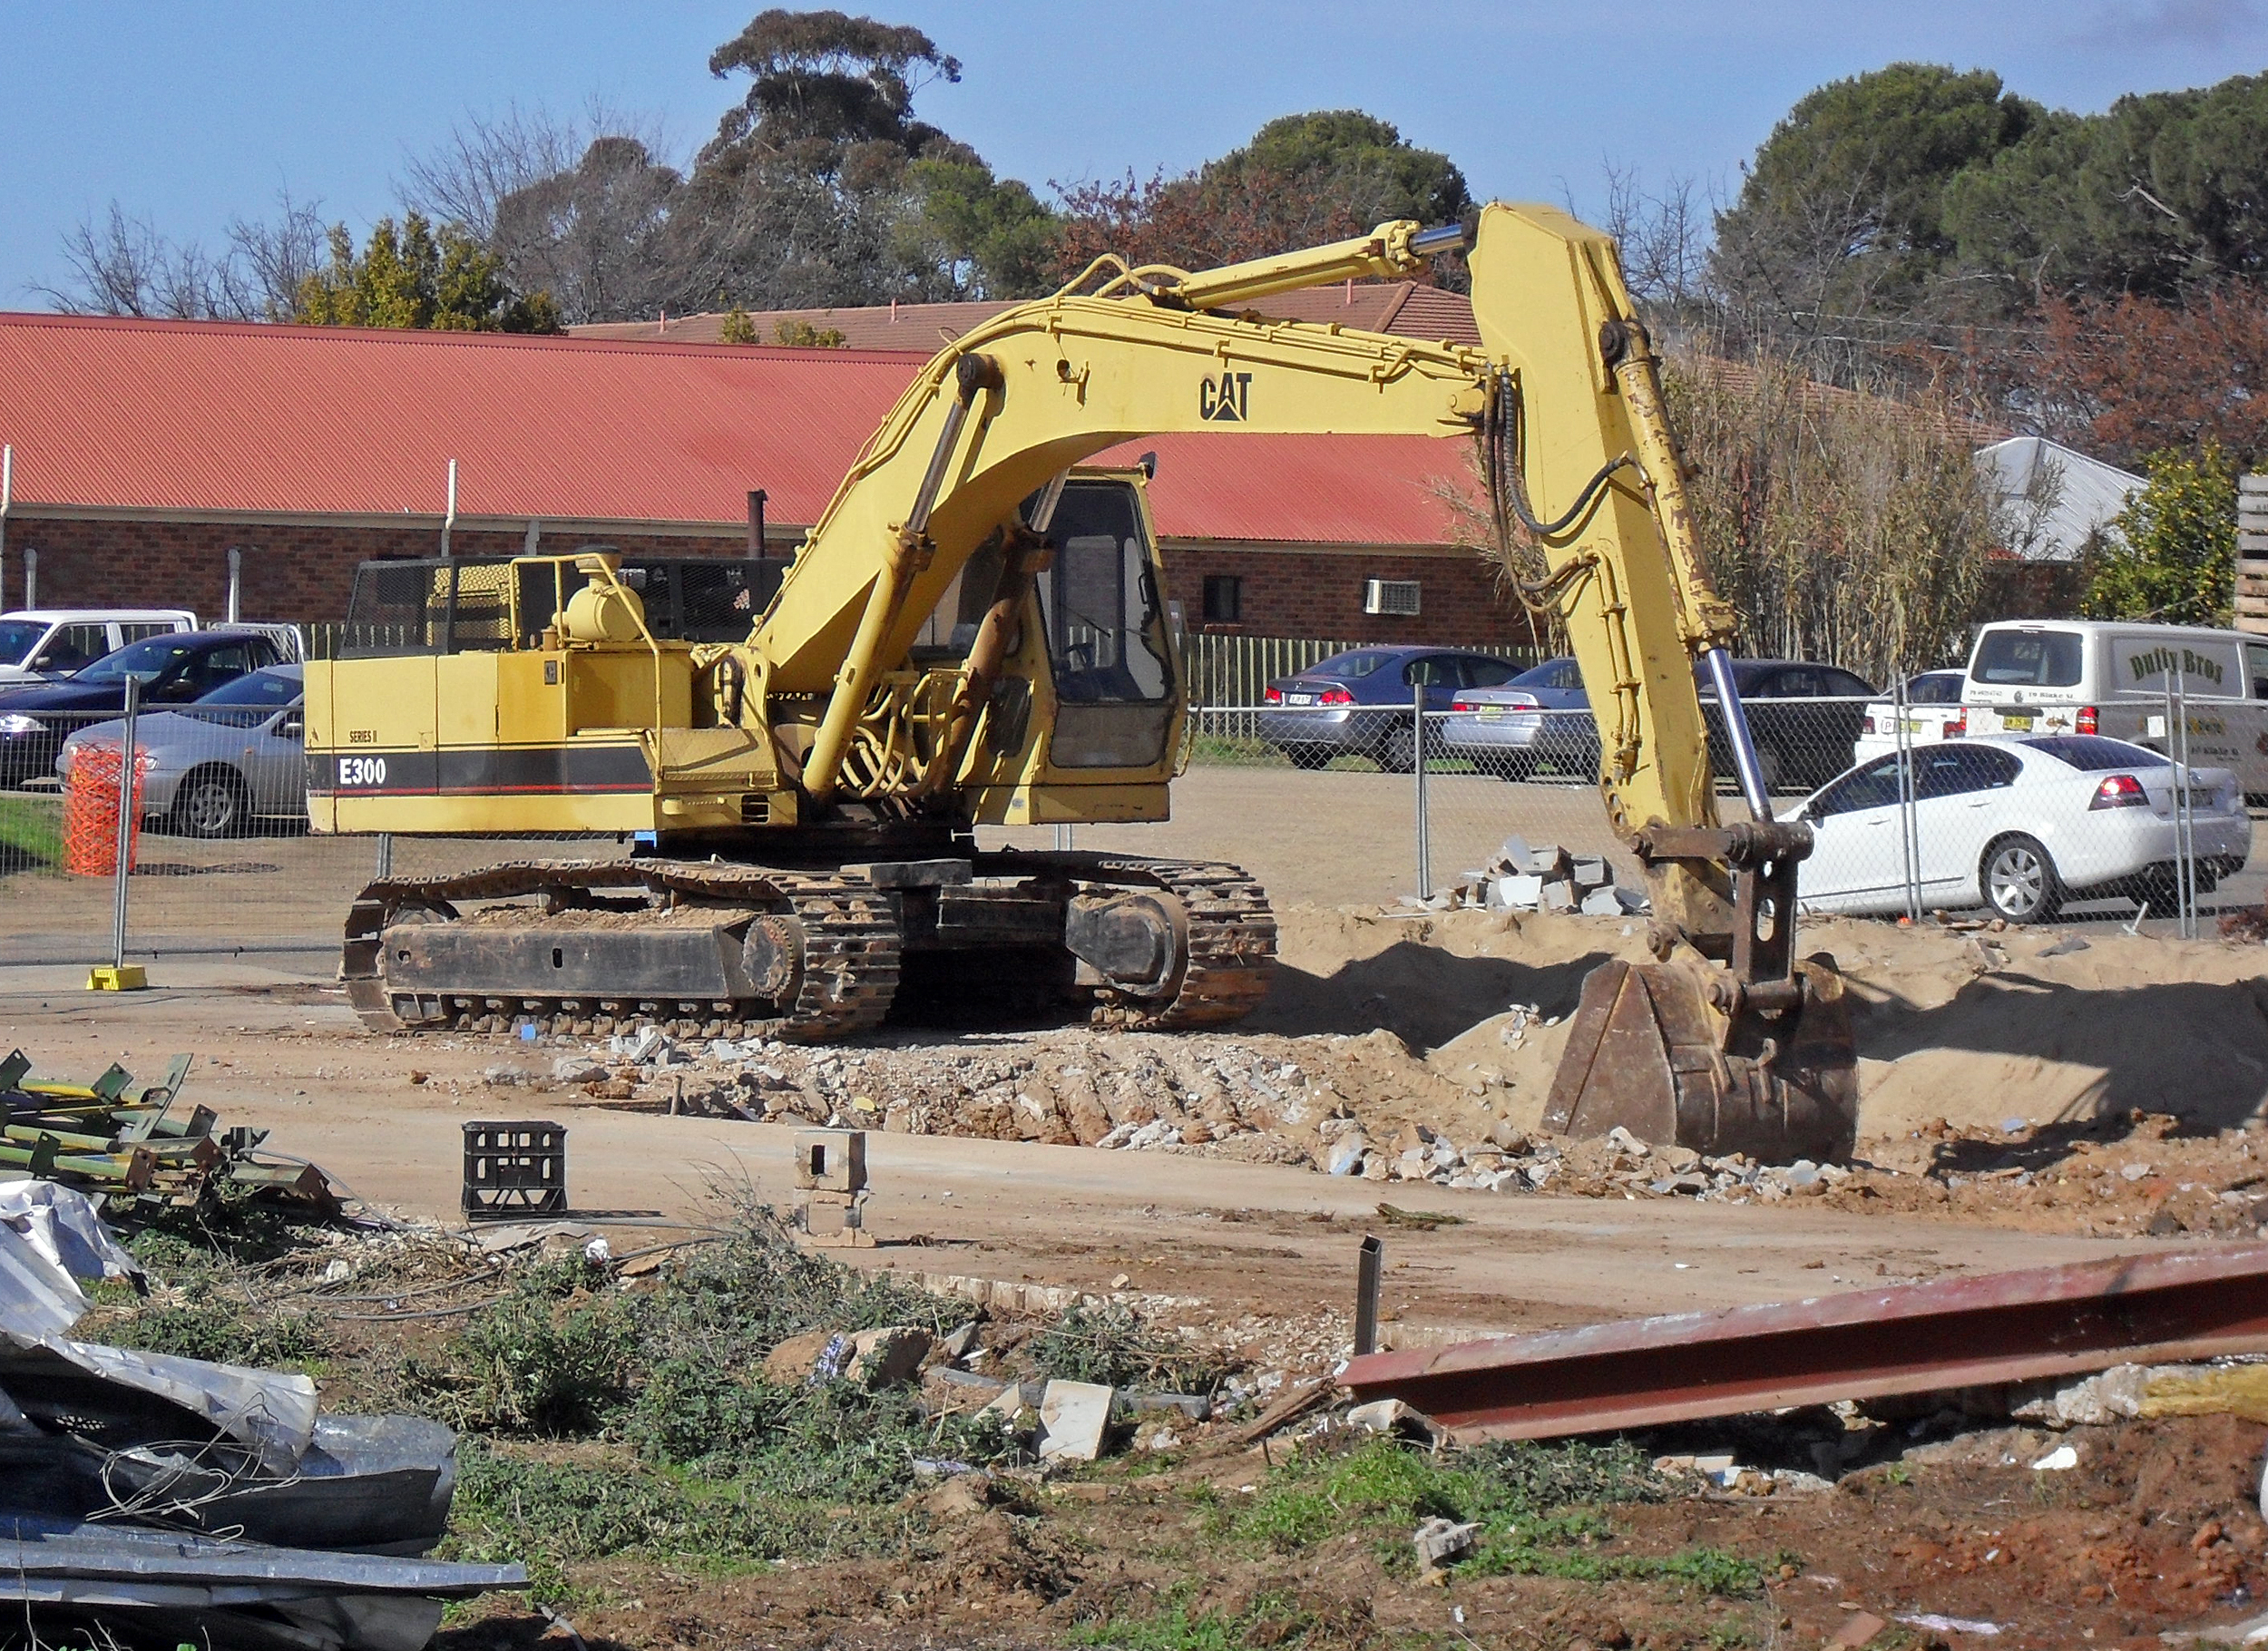excavator: (317, 202, 1868, 1178)
